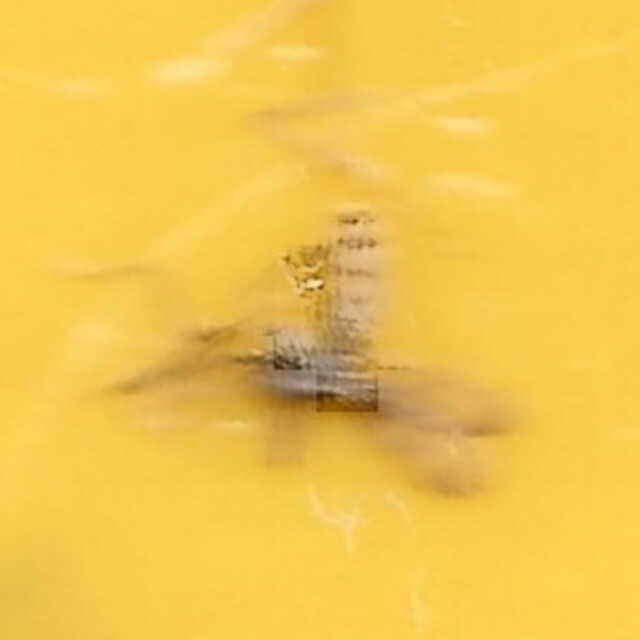Nematocera: (238, 200, 402, 440)
